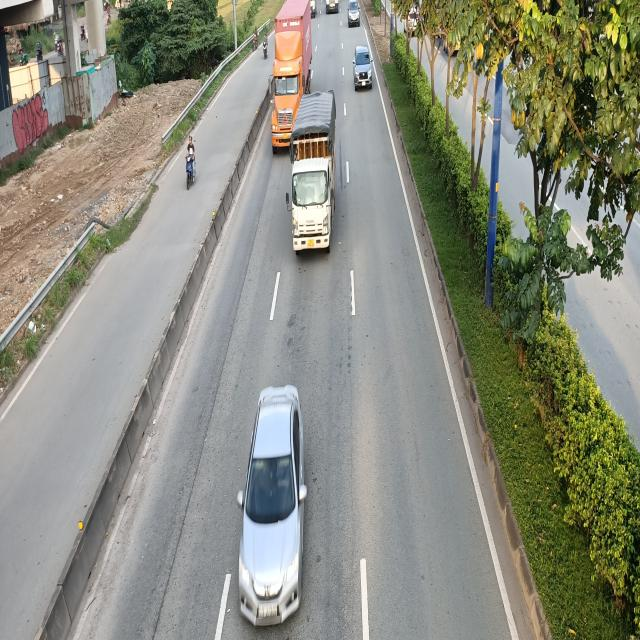car: (237, 390, 309, 630), (353, 46, 372, 90), (348, 0, 360, 26)
container: (268, 0, 313, 154)
truck: (284, 93, 337, 258)
